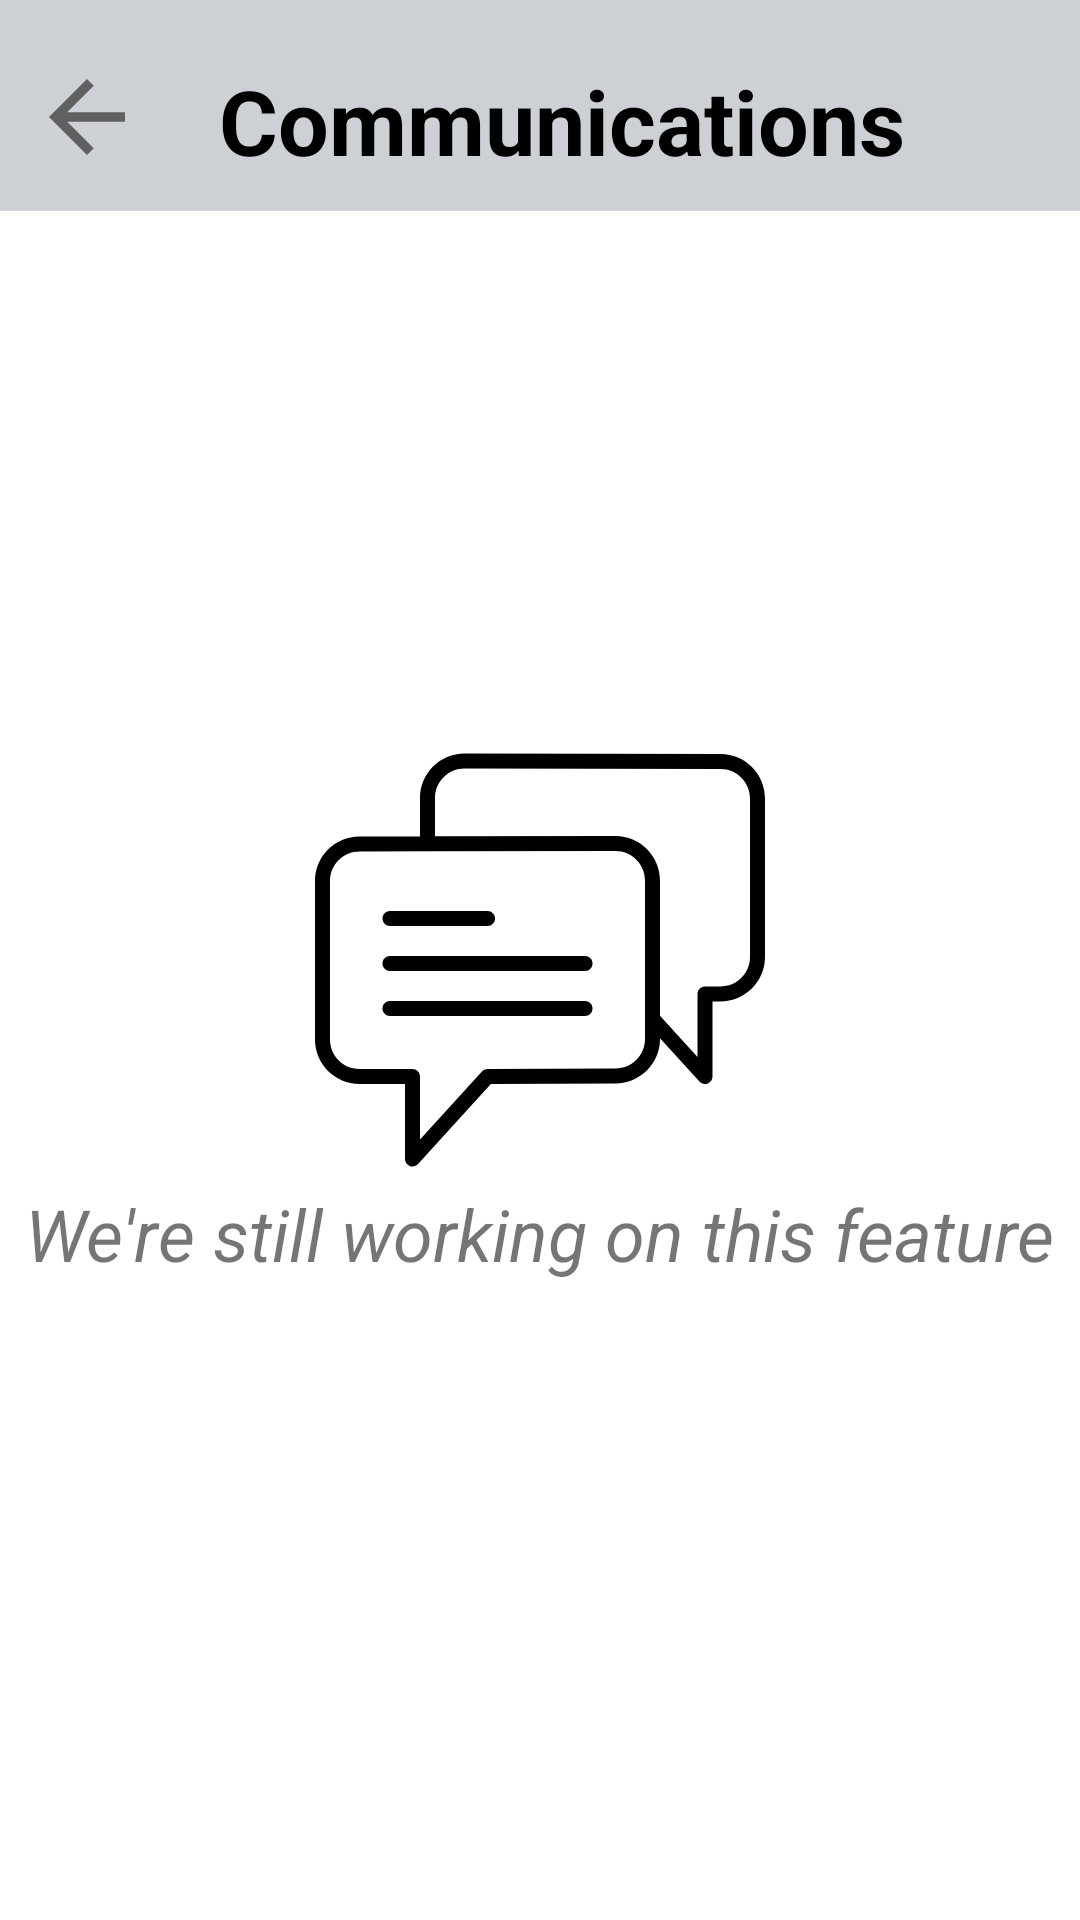

Point at icon controls on the screen. Image size 1080x1920, points as (x=x, y=y).
arrow back: (x=87, y=117)
